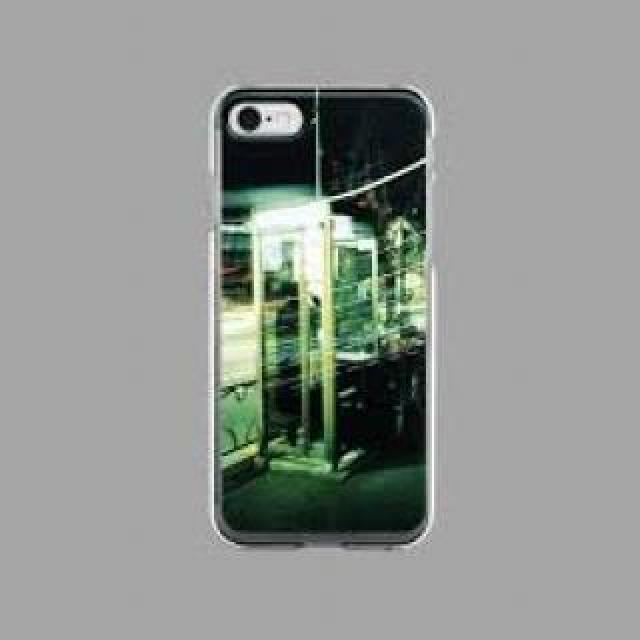smart phone: (176, 60, 486, 560)
